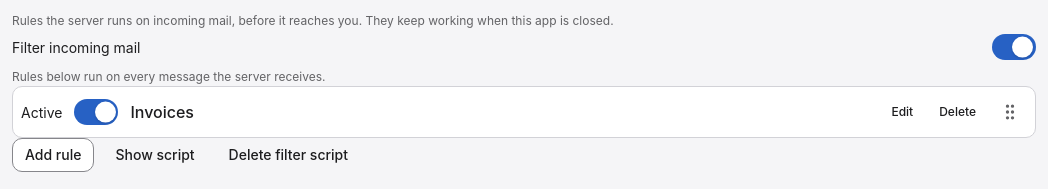
Test: the master switch › switches filtering off without touching a single rule
Expected: the text "Invoices" is shown, [130,102,194,122]
Click the switch named "Filter incoming mail" in the row of "Filter incoming mail" at point(1014, 47), box [992,30,1036,64]
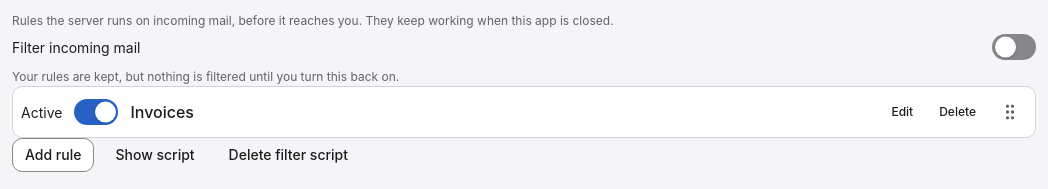
Expected: the text "Invoices" is shown, [130,102,194,122]
Expected: the text "Your rules are kept, but nothing is filtered until you turn this back on" is shown, [12,69,399,84]
